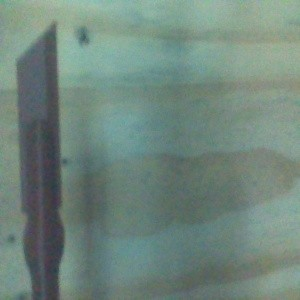cutter: (14, 19, 66, 300)
